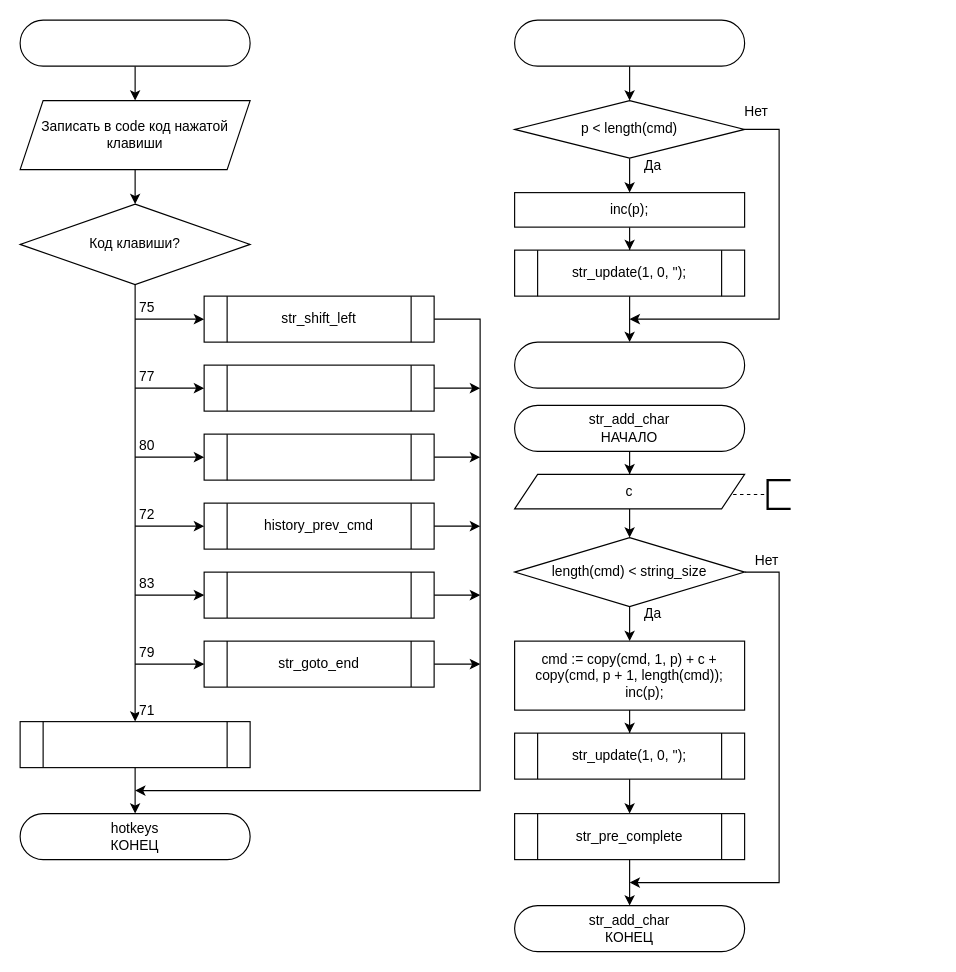
This 956x972 diagram has some shape labels left out. The centre of each missing label's shape, as x and y in pixels:
history_next_cmd: (x=318, y=456)
hotkeys НАЧАЛО: (x=134, y=42)
str_delete_char: (x=318, y=594)
str_goto_begin: (x=134, y=744)
str_shift_right: (x=318, y=387)
str_shift_right КОНЕЦ: (x=629, y=364)
str_shift_right НАЧАЛО: (x=629, y=42)
с - параметр по значению: (x=778, y=493)
